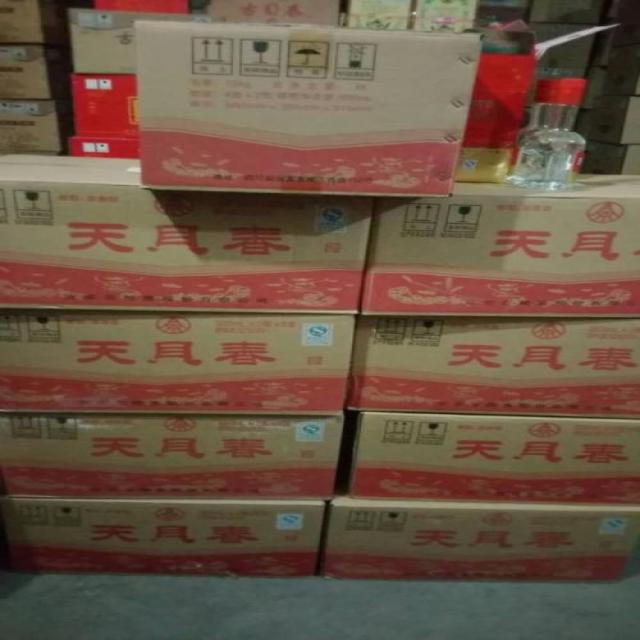box: (134, 22, 483, 197), (0, 153, 377, 314), (359, 173, 639, 316), (0, 307, 358, 416), (343, 313, 639, 420), (314, 486, 639, 583), (1, 411, 344, 500), (336, 410, 639, 505), (2, 497, 328, 576)
